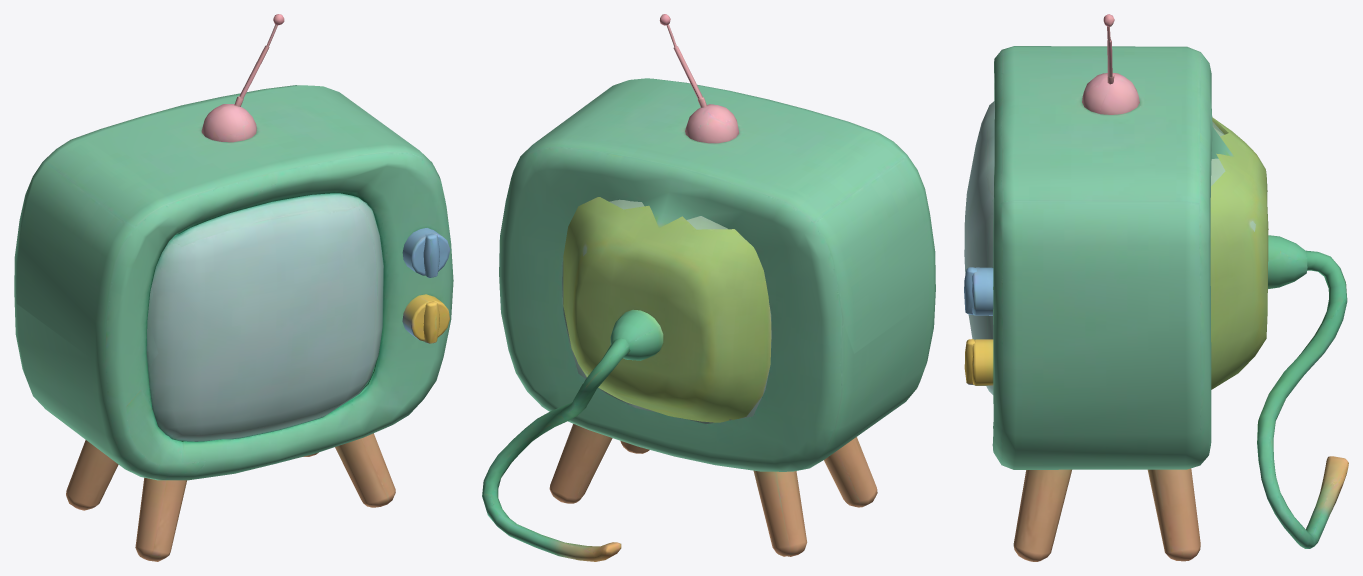
The model's file is retro-tv.glb.
The picture shows the model from 3 angles, left to right: view 1: azimuth 30°, elevation 25°; view 2: azimuth 150°, elevation 25°; view 3: azimuth 270°, elevation 25°; orthographic projection. The views are drawn at different scales.
Parts seen in each view (by area): view 1: geometry_0; view 2: geometry_0; view 3: geometry_0.
Boxes of the visible parts, x1,y1,x2,y2 form: geometry_0: (14, 14, 453, 561); geometry_0: (482, 14, 935, 561); geometry_0: (964, 14, 1348, 561).
Bounding box in the file's own units: 0.7748 × 1 × 0.681.
1 material, 1 textured.
